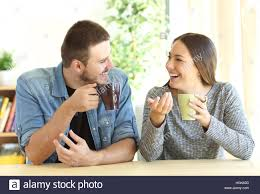person: (9, 17, 140, 167), (142, 28, 255, 162)
